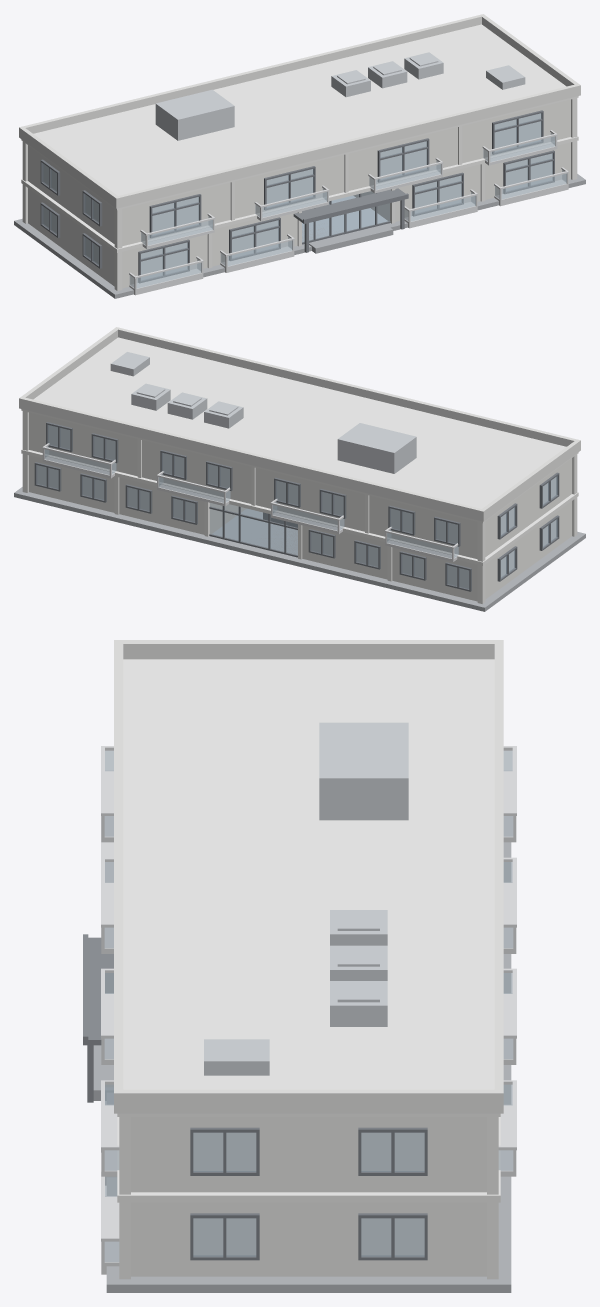
Rendered from harbor_point_hotel_2f_v2.glb.
3 views of the same model, one above another, from view 1: azimuth 30°, elevation 25°; view 2: azimuth 150°, elevation 25°; view 3: azimuth 270°, elevation 25° (orthographic). The views are drawn at different scales.
Visible parts, largest first — view 1: Slabs, Parapet, Windows, Balconies, Window_Frames, Roof_Plant, Balcony_Glass, room_201, room_101, Plinth, room_203, room_202 (+6 smaller); view 2: Slabs, Parapet, Window_Frames, Windows, Plinth, room_201, Roof_Plant, room_101, room_203, room_202, room_204, Balconies (+5 smaller); view 3: Slabs, Parapet, room_204, room_104, Roof_Plant, Balconies, Plinth, Windows, Window_Frames, Balcony_Glass, Canopy.
Boxes of the visible parts, box(x1,y1,x2,y2) form: Slabs: box(21, 24, 578, 290); Parapet: box(19, 14, 580, 208); Windows: box(42, 113, 552, 280); Balconies: box(129, 130, 568, 295); Window_Frames: box(40, 110, 554, 283); Roof_Plant: box(155, 52, 525, 140); Balcony_Glass: box(129, 133, 566, 288); room_201: box(28, 145, 230, 246); room_101: box(28, 188, 207, 288); Plinth: box(14, 174, 585, 298); room_203: box(348, 127, 457, 190); room_202: box(235, 155, 344, 218); Slabs: box(21, 337, 578, 603); Parapet: box(19, 327, 580, 521); Window_Frames: box(34, 422, 559, 591); Windows: box(36, 425, 557, 589); Plinth: box(14, 487, 585, 611); room_201: box(369, 458, 571, 559); Roof_Plant: box(110, 352, 416, 473); room_101: box(392, 501, 571, 601); room_203: box(142, 440, 251, 503); room_202: box(255, 468, 364, 531); room_204: box(29, 412, 137, 476); Balconies: box(42, 443, 458, 561); Slabs: box(117, 659, 500, 1279); Parapet: box(114, 640, 503, 1113); room_204: box(131, 1117, 486, 1192); room_104: box(131, 1202, 486, 1276); Roof_Plant: box(204, 722, 408, 1075); Balconies: box(101, 746, 516, 1274); Plinth: box(93, 842, 511, 1292); Windows: box(193, 1132, 424, 1256); Window_Frames: box(190, 1127, 427, 1260); Balcony_Glass: box(104, 750, 513, 1261); Canopy: box(83, 934, 113, 1102).
Size of the model in its own units: 4.14 by 0.94 by 1.65.
